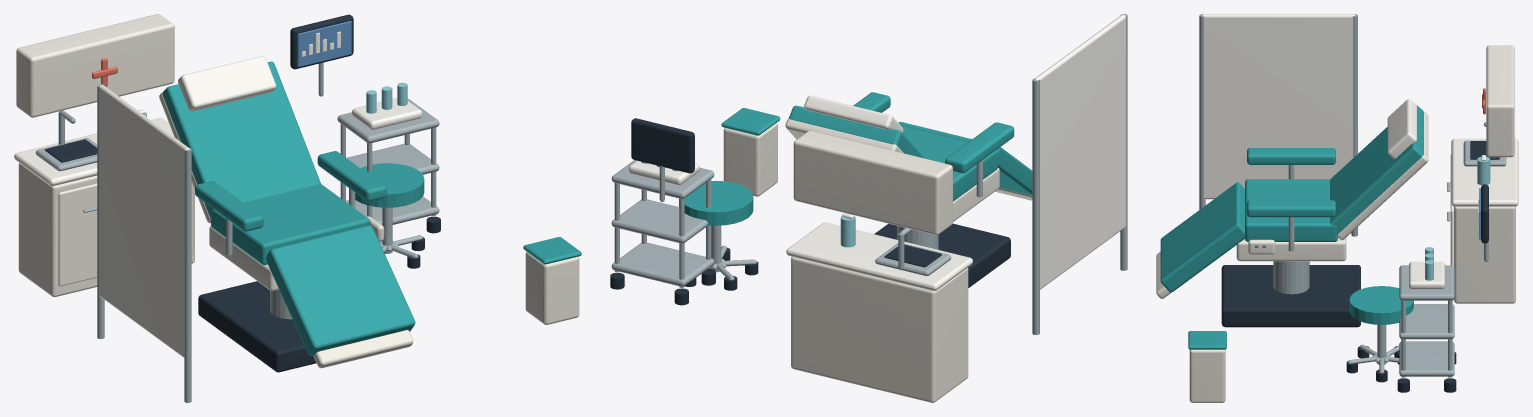
File: NursingStation_1.fbx
3 renders of one model, left to right at view 1: azimuth 30°, elevation 25°; view 2: azimuth 150°, elevation 25°; view 3: azimuth 270°, elevation 25°, orthographic. The views are drawn at different scales.
Parts seen in each view (by area): view 1: Privacy screen, Legrest cushion, Backrest cushion, Upper supply cabinet, Seat upholstery, Chair bed floor base, Supply base cabinet, Cabinet door, Adjustable head cushion, Clinical waste bin, Stool seat, Privacy frame (+15 smaller); view 2: Supply base cabinet, Privacy screen, Upper supply cabinet, Cabinet countertop, Clinical waste bin, Chair bed floor base, Patient monitor, Trolley shelf, Trolley shelf.001, Stool seat, Seat upholstery, Privacy frame.001 (+16 smaller); view 3: Privacy screen, Chair bed floor base, Supply base cabinet, Legrest cushion, Backrest cushion, Seat upholstery, Upper supply cabinet, Cabinet countertop, Clinical waste bin, Stool seat, Lift chassis, Trolley shelf (+18 smaller).
Boxes of the visible parts, x1=… form: Privacy screen: x1=99, y1=85, x2=189, y2=357; Legrest cushion: x1=266, y1=225, x2=415, y2=355; Backrest cushion: x1=162, y1=61, x2=320, y2=218; Upper supply cabinet: x1=16, y1=14, x2=174, y2=117; Seat upholstery: x1=211, y1=184, x2=370, y2=264; Chair bed floor base: x1=198, y1=281, x2=316, y2=372; Supply base cabinet: x1=18, y1=163, x2=194, y2=297; Cabinet door: x1=58, y1=183, x2=97, y2=286; Adjustable head cushion: x1=178, y1=56, x2=276, y2=111; Clinical waste bin: x1=525, y1=251, x2=579, y2=324; Stool seat: x1=355, y1=163, x2=424, y2=207; Privacy frame: x1=184, y1=148, x2=191, y2=402; Supply base cabinet: x1=791, y1=256, x2=968, y2=402; Privacy screen: x1=1034, y1=14, x2=1125, y2=289; Upper supply cabinet: x1=793, y1=130, x2=952, y2=235; Cabinet countertop: x1=786, y1=222, x2=972, y2=290; Clinical waste bin: x1=723, y1=123, x2=777, y2=196; Chair bed floor base: x1=874, y1=223, x2=1010, y2=287; Patient monitor: x1=631, y1=118, x2=694, y2=173; Trolley shelf: x1=611, y1=242, x2=714, y2=286; Trolley shelf.001: x1=611, y1=199, x2=707, y2=243; Stool seat: x1=679, y1=181, x2=753, y2=225; Seat upholstery: x1=901, y1=125, x2=997, y2=201; Privacy frame.001: x1=1032, y1=78, x2=1039, y2=334; Privacy screen: x1=1202, y1=14, x2=1355, y2=199; Chair bed floor base: x1=1221, y1=265, x2=1360, y2=327; Supply base cabinet: x1=1454, y1=206, x2=1515, y2=303; Legrest cushion: x1=1160, y1=182, x2=1244, y2=292; Backrest cushion: x1=1330, y1=105, x2=1423, y2=234; Seat upholstery: x1=1245, y1=179, x2=1337, y2=241; Upper supply cabinet: x1=1486, y1=45, x2=1514, y2=157; Cabinet countertop: x1=1451, y1=138, x2=1518, y2=206; Clinical waste bin: x1=1189, y1=349, x2=1225, y2=402; Stool seat: x1=1349, y1=286, x2=1413, y2=324; Lift chassis: x1=1236, y1=238, x2=1346, y2=261; Trolley shelf: x1=1399, y1=341, x2=1454, y2=376.
Bounding box in the file's own units: 305 × 193 × 281.
